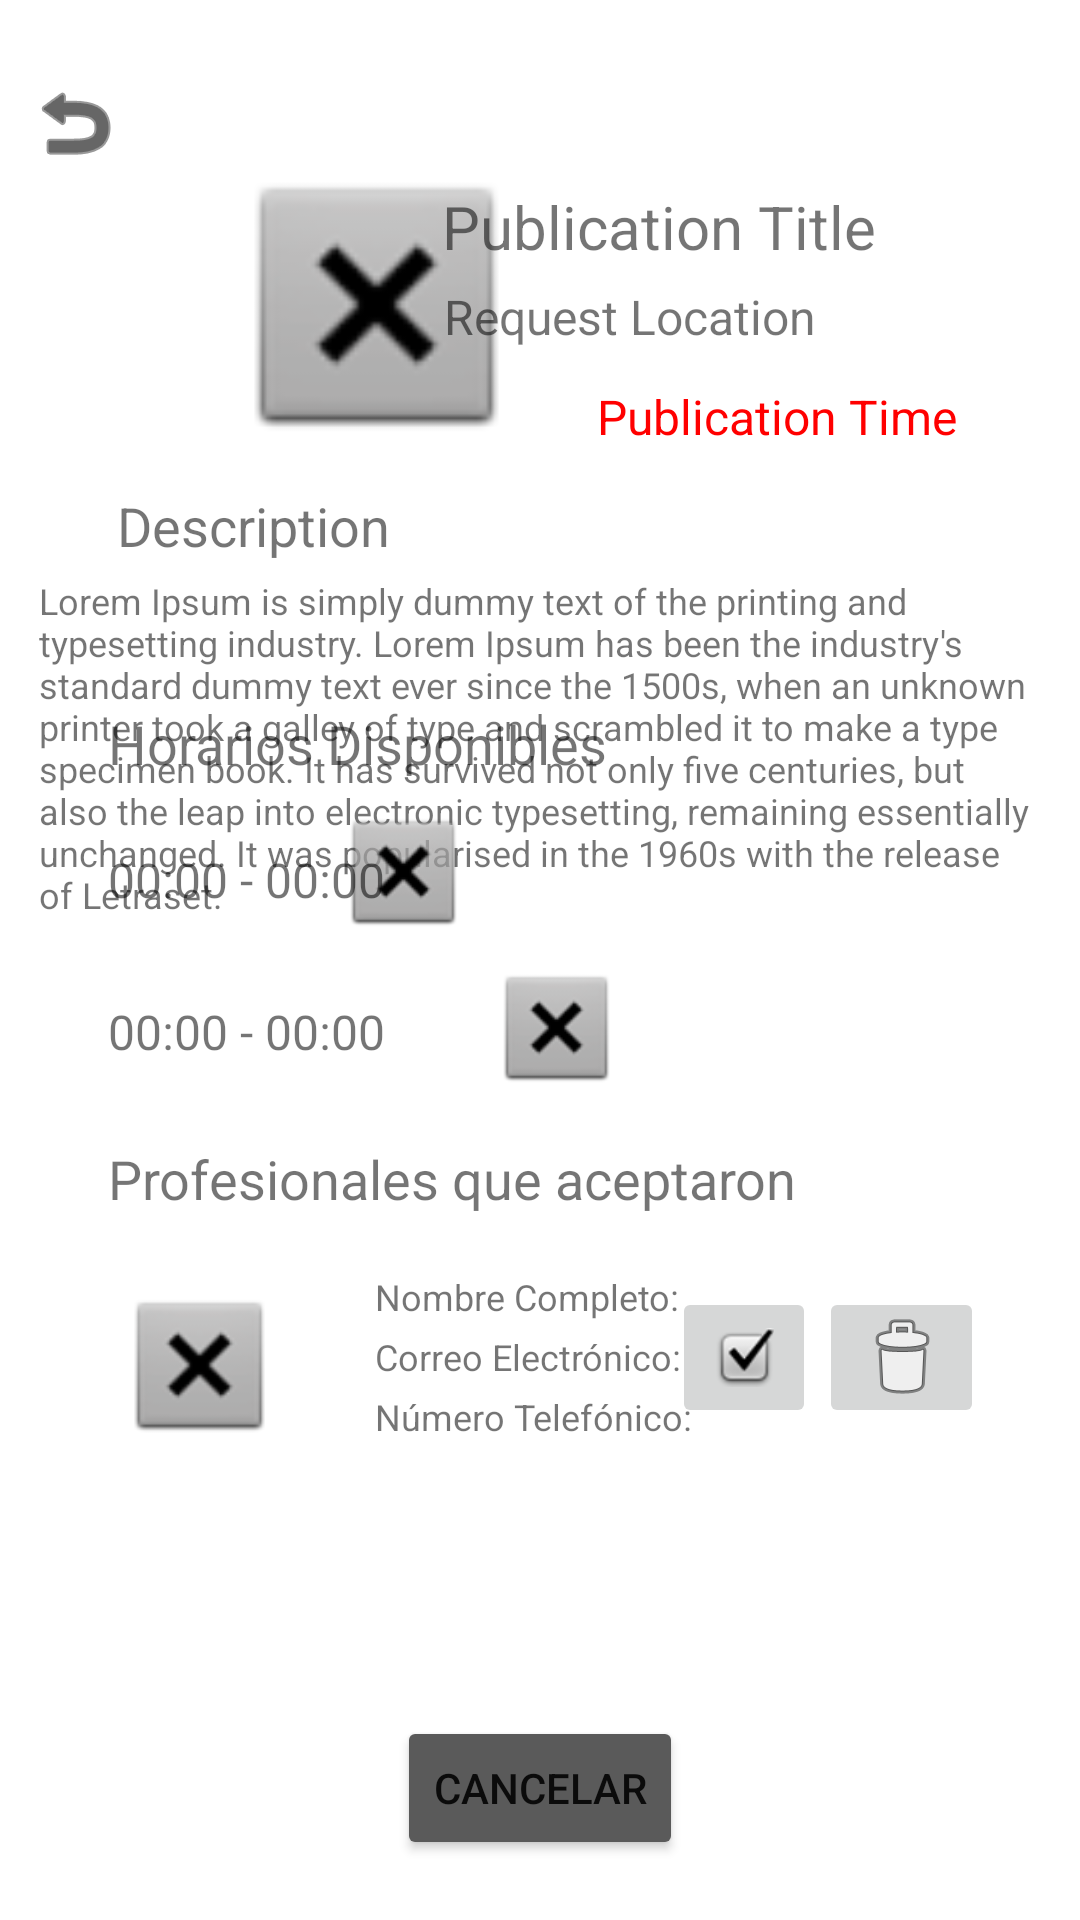

Where icons sit on this 1080x1920 app screen, as (x1, y1, x2, y2):
Button to previous page: (42, 92, 111, 155)
delete: (831, 1305, 972, 1410)
